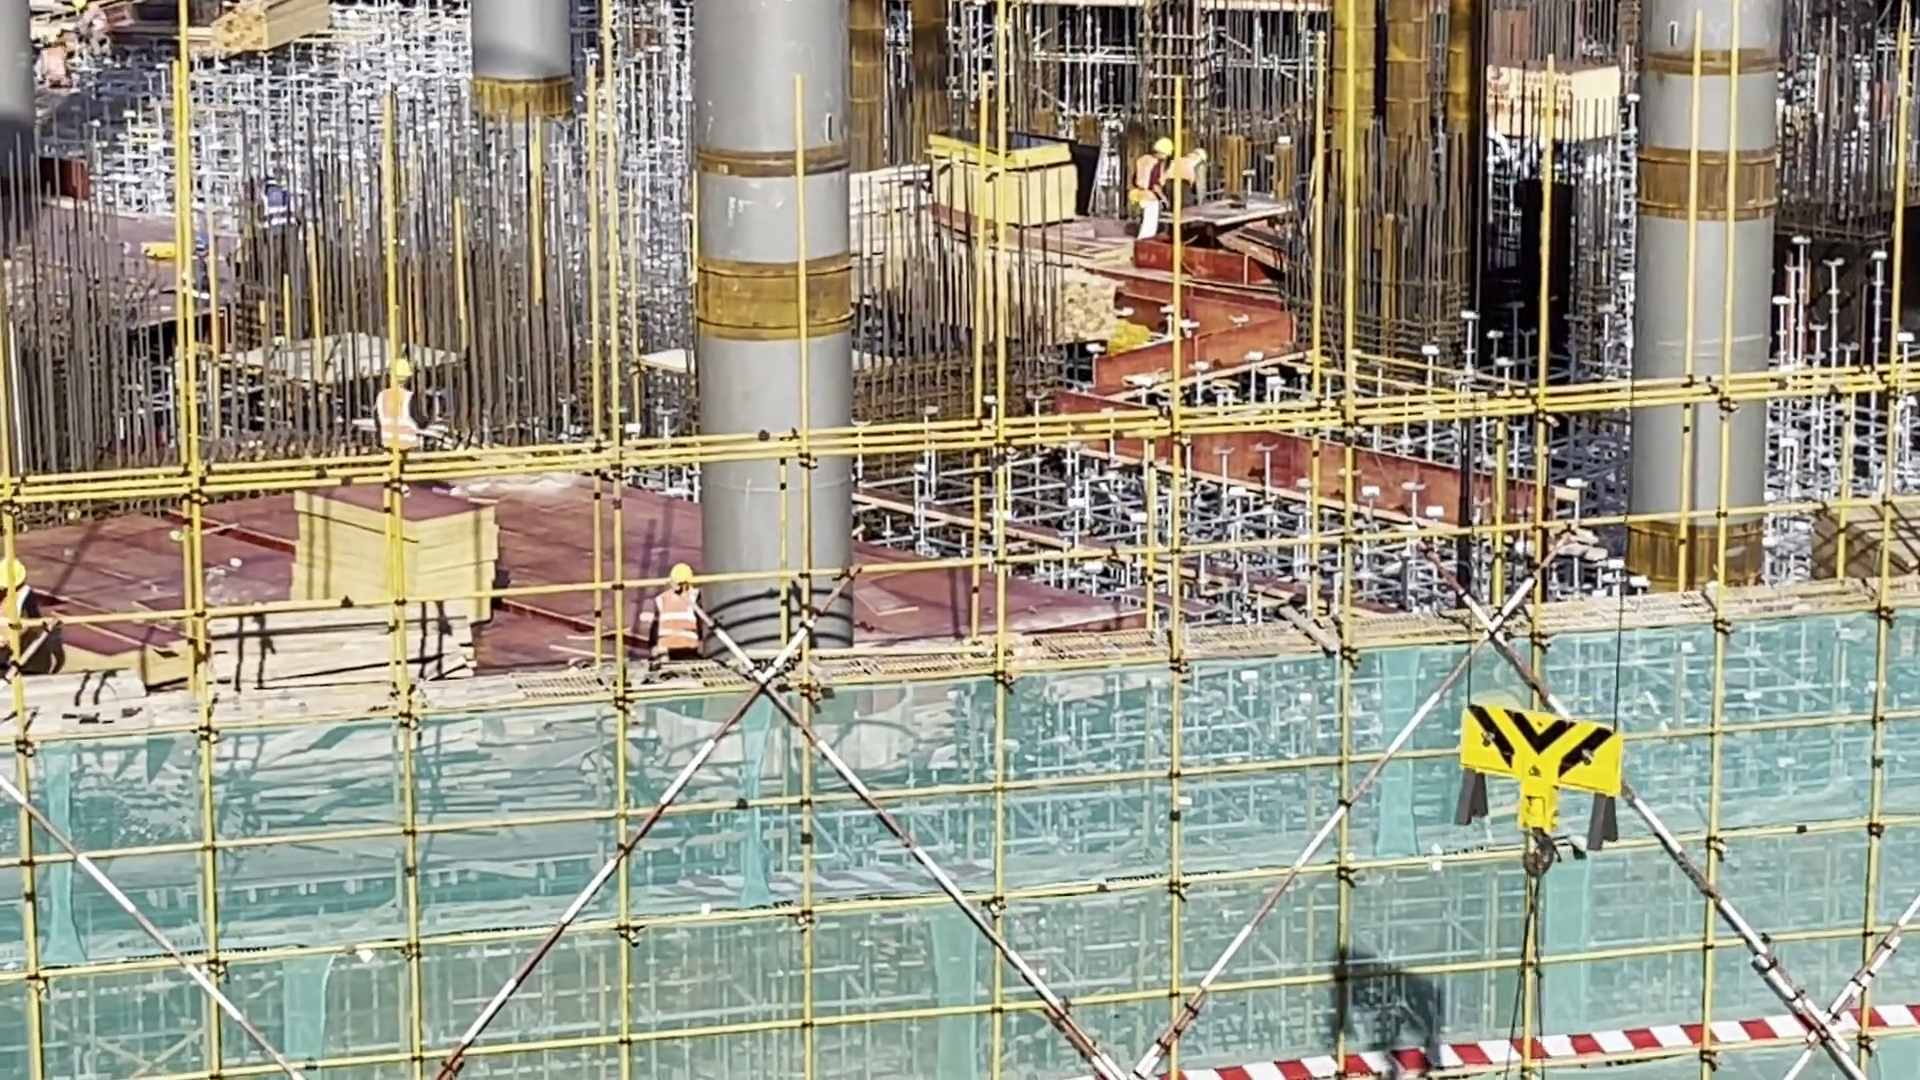board: (291, 483, 516, 634), (926, 119, 1095, 230), (1809, 487, 1920, 600)
helmet: (667, 559, 694, 596), (388, 358, 420, 382), (1150, 137, 1176, 162)
hook: (1437, 687, 1630, 913)
person: (358, 356, 448, 499), (1122, 124, 1190, 247), (650, 557, 713, 669), (1172, 138, 1223, 218)
vest: (657, 593, 706, 666), (379, 389, 421, 456), (1132, 151, 1167, 210), (1168, 156, 1203, 188)
wood: (198, 599, 465, 753), (195, 1, 337, 66)
